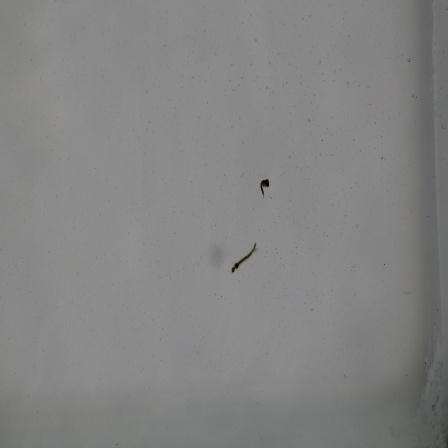Jentik-Nyamuk: (228, 238, 260, 277), (257, 174, 272, 198)
